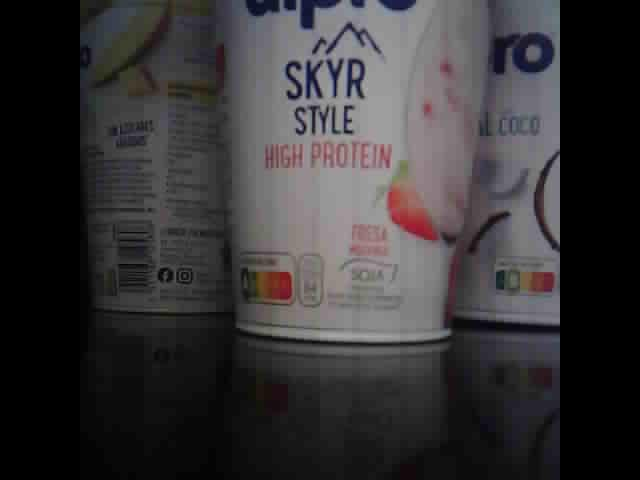alpro: (222, 1, 494, 348), (81, 1, 233, 318), (452, 1, 562, 330)
